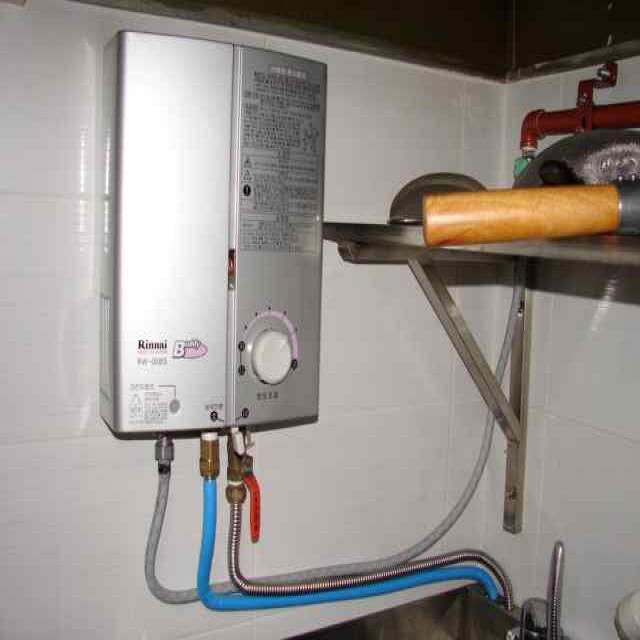Boiler: (94, 2, 340, 526)
